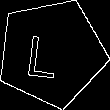L_N: (33, 26, 71, 80)
